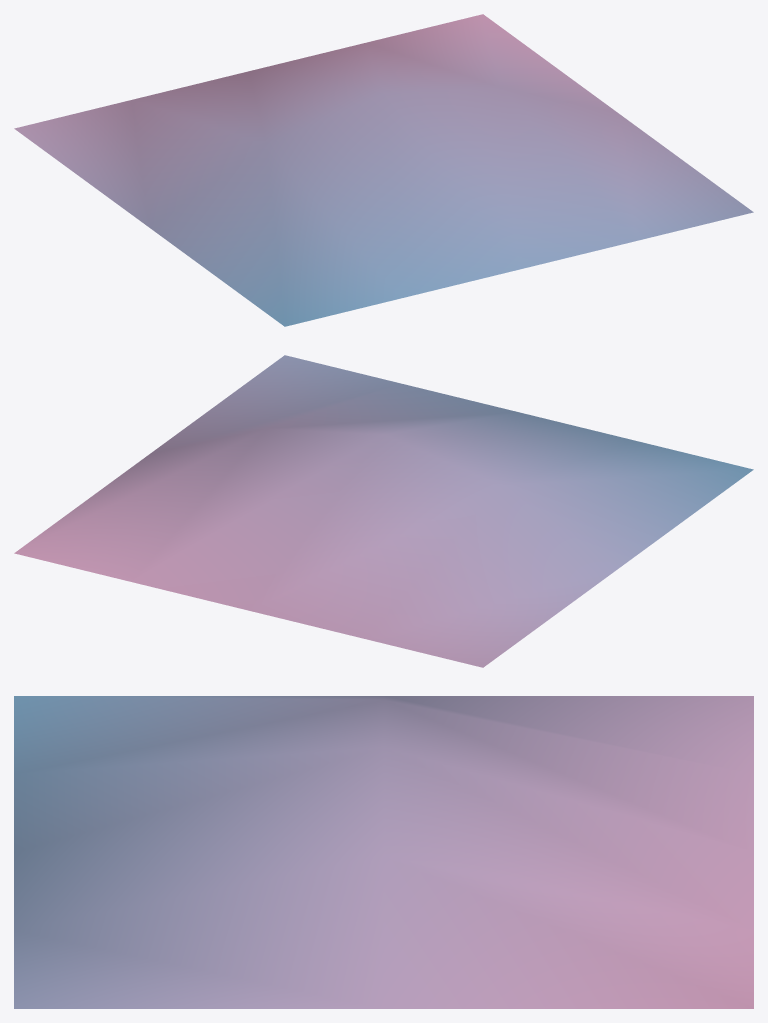
3 views of the same model, one above another, from view 1: azimuth 30°, elevation 25°; view 2: azimuth 150°, elevation 25°; view 3: azimuth 270°, elevation 25° (orthographic). The views are drawn at different scales.
Visible parts, largest first — view 1: dome; view 2: dome; view 3: dome.
Part boxes in pixels (x1=…): dome: x1=14, y1=14, x2=753, y2=326; dome: x1=14, y1=355, x2=753, y2=667; dome: x1=14, y1=696, x2=753, y2=1008.
Size of the model in its own units: 64 by 10 by 64.
